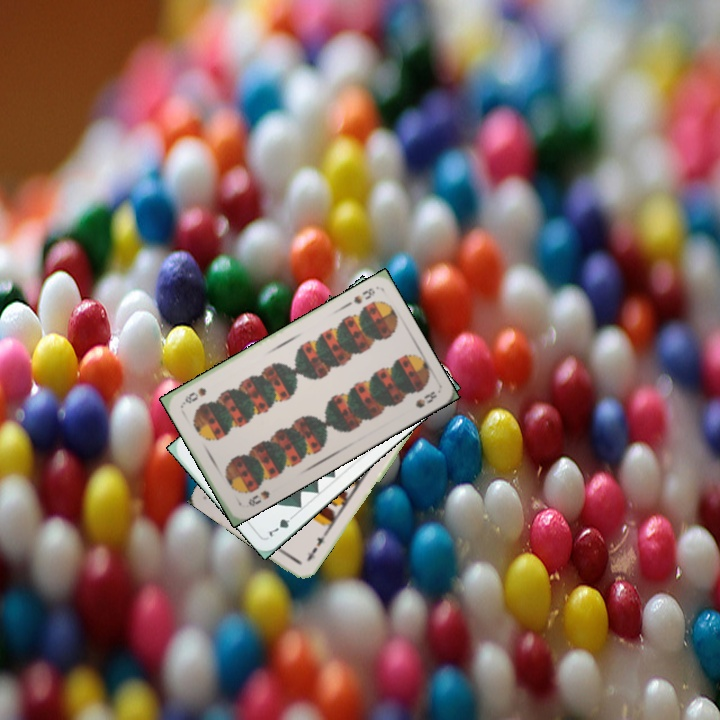E7: (303, 529, 329, 564)
G7: (265, 510, 299, 541)
S8: (349, 283, 378, 307), (244, 486, 272, 509)
